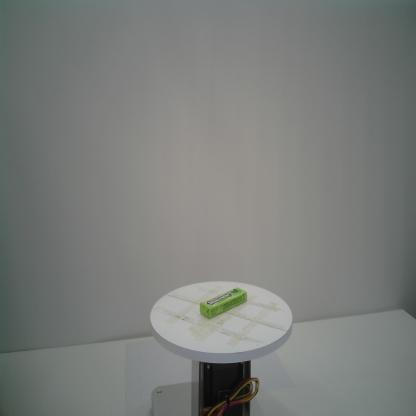Gum: (199, 286, 248, 319)
